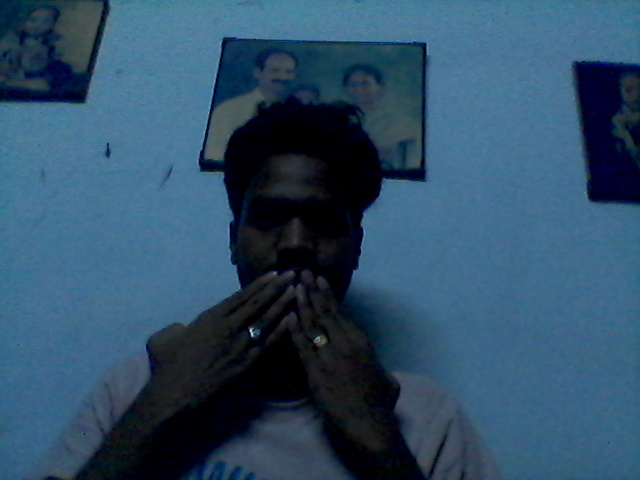Hi: (97, 262, 480, 448)
